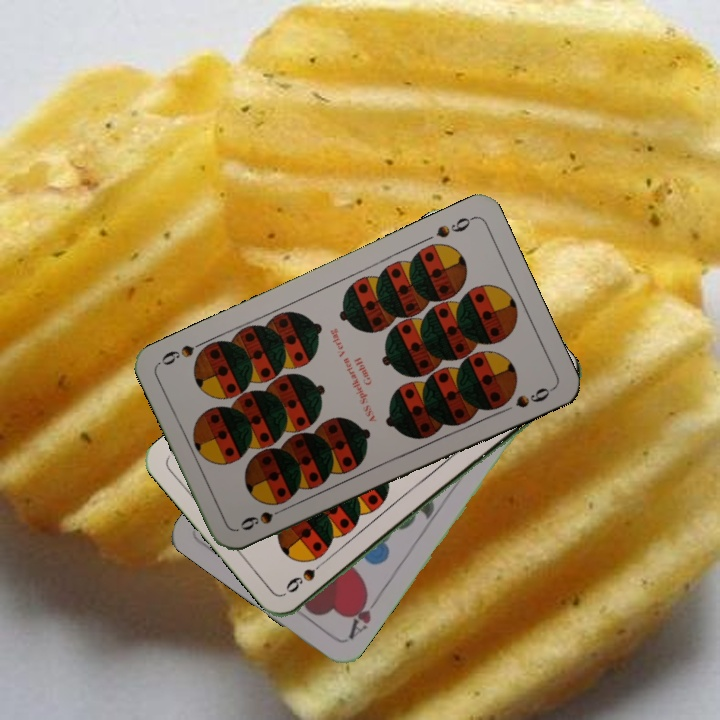HA: (344, 589, 383, 642)
S9: (283, 554, 332, 596), (236, 502, 291, 533), (432, 212, 477, 241)
